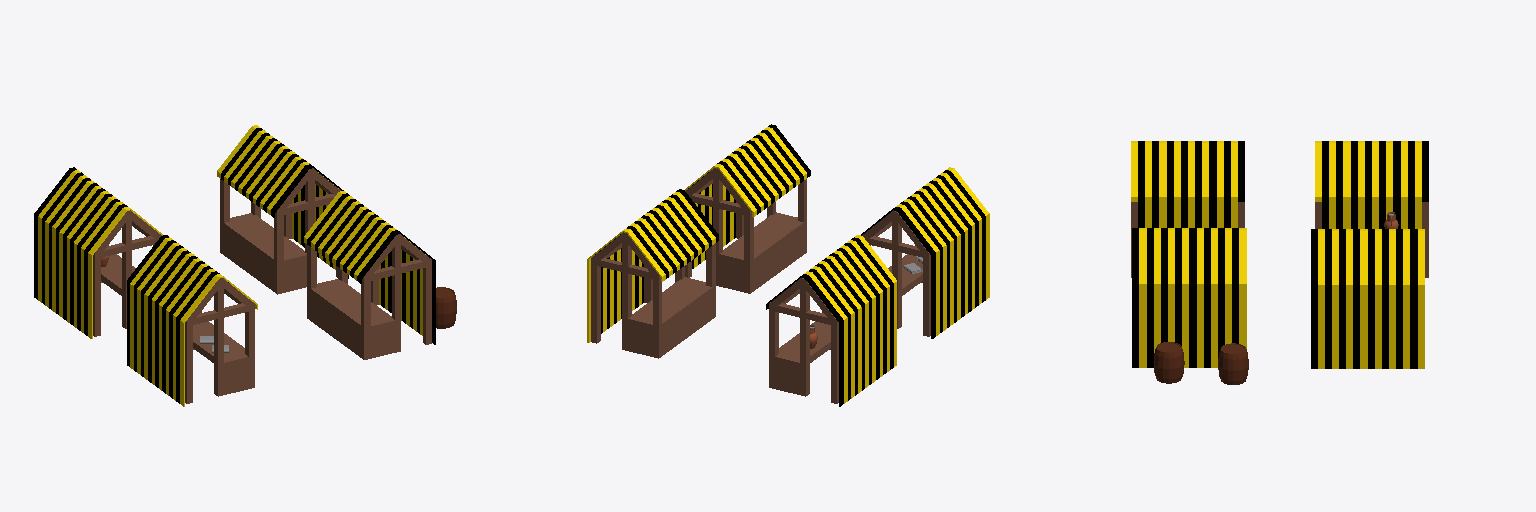
File: market_black_yellow.obj
3 views of the same model, side by side, from view 1: azimuth 30°, elevation 25°; view 2: azimuth 150°, elevation 25°; view 3: azimuth 270°, elevation 25° (orthographic).
Visible parts, largest first — view 1: Cube.060_Cube.235, Cube.156_Cube.225, Cube.052_Cube.004, Cube.056_Cube.178, Cube.147_Cube.153, Cube.001_Cube.064, Barrel1.001; view 2: Cube.156_Cube.225, Cube.060_Cube.235, Cube.056_Cube.178, Cube.052_Cube.004, Cube.001_Cube.064, Cube.147_Cube.153, Cube.025_Cube.001, Cube.057_Cube.179; view 3: Cube.156_Cube.225, Cube.060_Cube.235, Cube.001_Cube.064, Cube.147_Cube.153, Barrel1.001, Barrel1.
Part boxes in pixels (left/top/right/bottom): Cube.060_Cube.235: left=127, top=235, right=257, bottom=406; Cube.156_Cube.225: left=34, top=167, right=162, bottom=338; Cube.052_Cube.004: left=309, top=234, right=431, bottom=359; Cube.056_Cube.178: left=222, top=168, right=340, bottom=294; Cube.147_Cube.153: left=379, top=250, right=435, bottom=344; Cube.001_Cube.064: left=292, top=184, right=348, bottom=278; Barrel1.001: left=436, top=287, right=456, bottom=328; Cube.156_Cube.225: left=766, top=235, right=896, bottom=406; Cube.060_Cube.235: left=861, top=167, right=989, bottom=338; Cube.056_Cube.178: left=591, top=232, right=715, bottom=356; Cube.052_Cube.004: left=685, top=168, right=806, bottom=292; Cube.001_Cube.064: left=587, top=248, right=643, bottom=342; Cube.147_Cube.153: left=692, top=184, right=735, bottom=268; Cube.025_Cube.001: left=744, top=210, right=753, bottom=293; Cube.057_Cube.179: left=653, top=275, right=661, bottom=358; Cube.156_Cube.225: left=1315, top=141, right=1428, bottom=277; Cube.060_Cube.235: left=1131, top=141, right=1244, bottom=277; Cube.001_Cube.064: left=1311, top=285, right=1424, bottom=368; Cube.147_Cube.153: left=1132, top=284, right=1246, bottom=367; Barrel1.001: left=1153, top=342, right=1184, bottom=383; Barrel1: left=1218, top=343, right=1248, bottom=384.
Bounding box in the file's own units: 9.51 × 3.73 × 8.36.